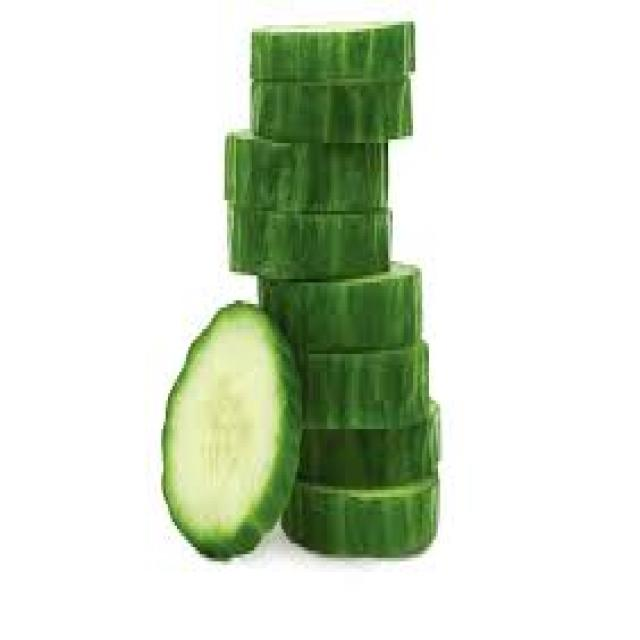Pickle: (162, 303, 300, 556), (225, 132, 386, 212), (259, 271, 420, 350), (282, 475, 437, 554), (228, 206, 390, 279), (301, 402, 439, 485), (251, 79, 412, 143), (304, 345, 427, 428), (252, 27, 415, 80)
